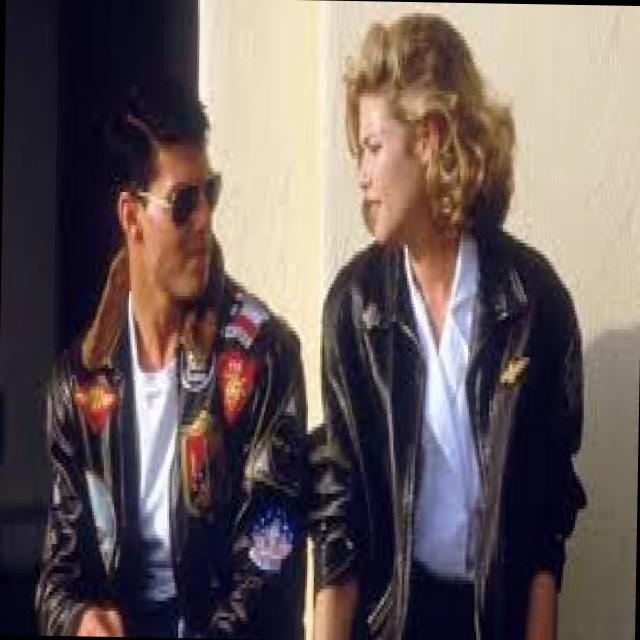Jacket: (297, 228, 594, 640), (34, 262, 316, 640)
